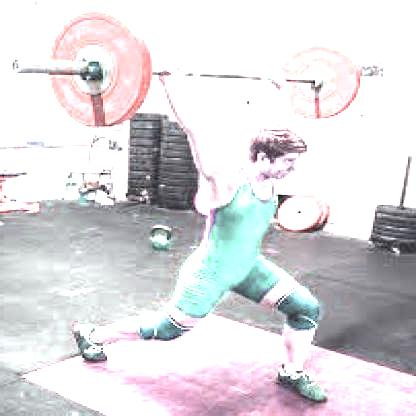Barbell: (3, 57, 22, 75)
